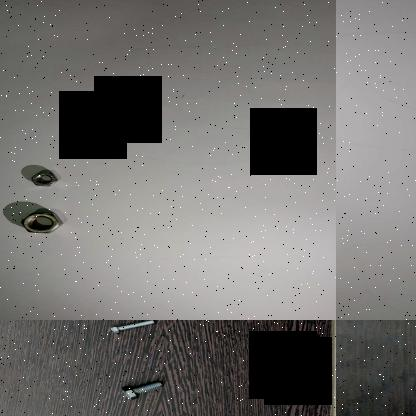Bolts: (121, 376, 164, 404), (107, 320, 159, 336)
NUTS: (18, 212, 62, 236), (30, 174, 63, 188)
